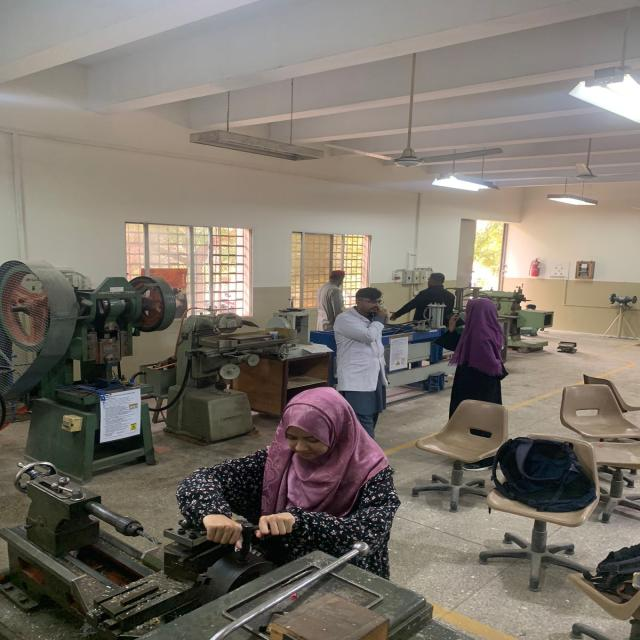labcoat: (331, 306, 392, 394)
